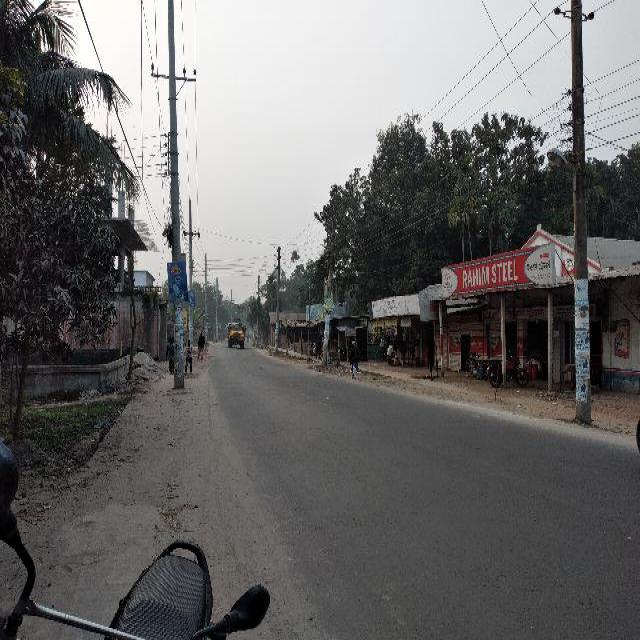10: (0, 438, 270, 639), (485, 357, 529, 387), (337, 346, 363, 362)
18: (227, 318, 245, 349)
Car: (249, 330, 253, 338)
Motorcycle: (374, 347, 390, 362)
